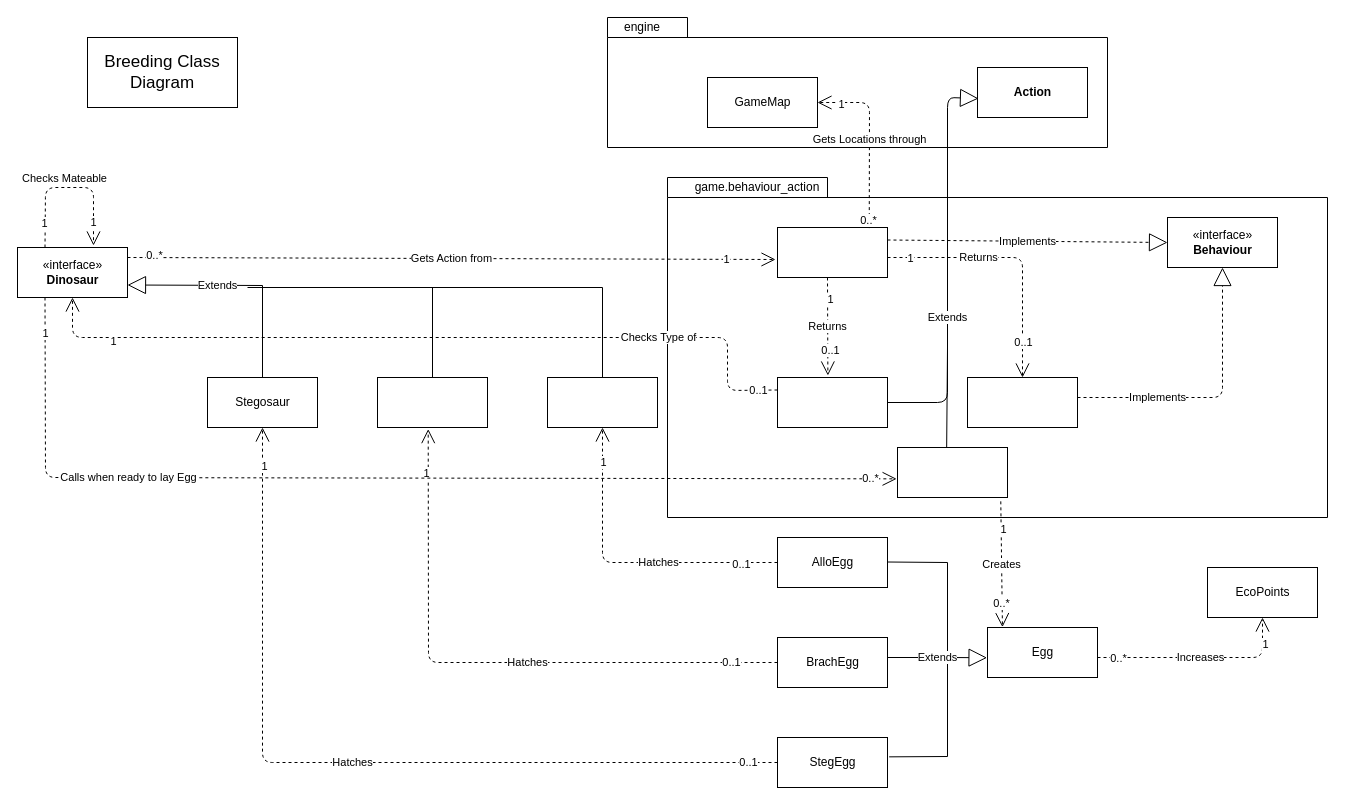
Image size: 1345x805. Some labels were removed from this diagram. The shapes that lost their labels are listed below. From the top down, each one's centre as x and y in pixels, then its label:
(x=832, y=252): BreedBehaviour
(x=432, y=402): Brachiosaur
(x=602, y=402): Allosaur
(x=832, y=402): BreedAction
(x=1022, y=402): FollowBehaviour
(x=952, y=472): LayEggAction
